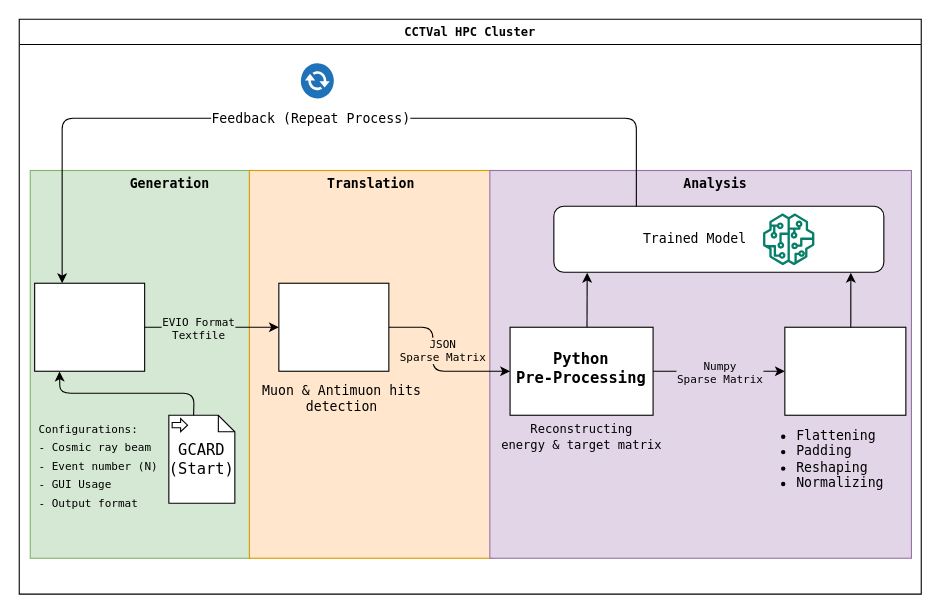
The diagram is 941 pixels wide and 614 high, and some of its shapes have lost their labels. Each missing label, with the centre of its shape:
GEMC: pixel 89 326
Gruid Translator: pixel 333 326
ML (CNN & Autoencoder): pixel 845 370
